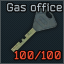Gas station office key: (0, 0, 64, 64)
